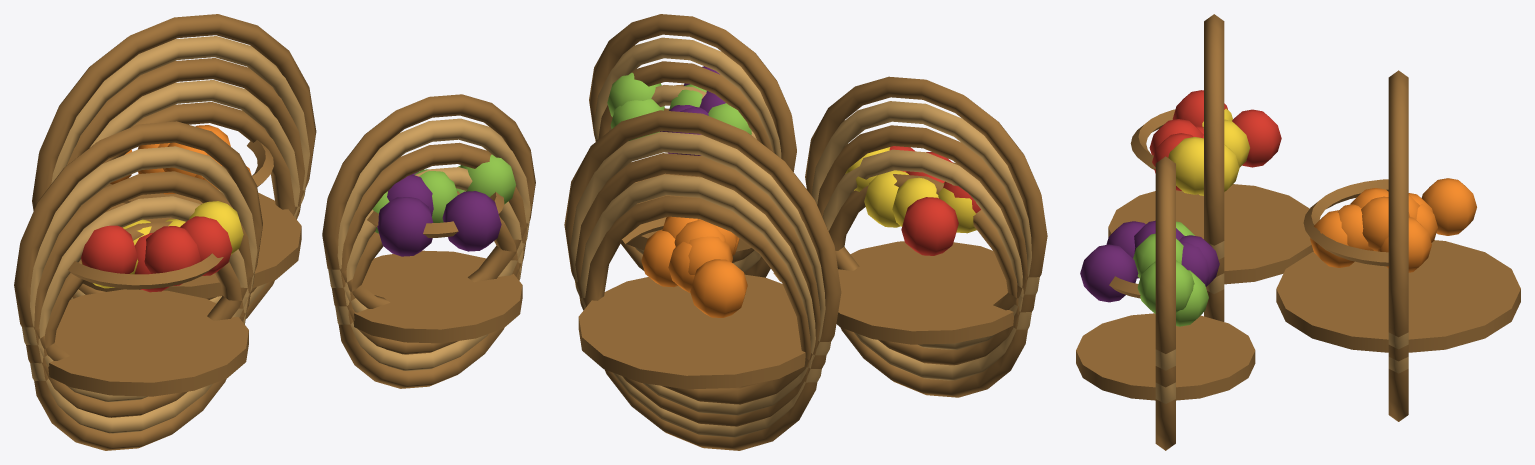
Rendered from mk_baskets.glb.
The picture shows the model from 3 angles, left to right: view 1: azimuth 30°, elevation 25°; view 2: azimuth 150°, elevation 25°; view 3: azimuth 270°, elevation 25°; orthographic projection. The views are drawn at different scales.
Parts seen in each view (by area): view 1: mk_baskets_body; view 2: mk_baskets_body; view 3: mk_baskets_body.
Boxes of the visible parts, bbox=[...] form: mk_baskets_body: bbox=[14, 14, 535, 450]; mk_baskets_body: bbox=[564, 14, 1047, 450]; mk_baskets_body: bbox=[1076, 14, 1520, 450].
Bounding box in the file's own units: 1.12 × 0.743 × 0.9168.
